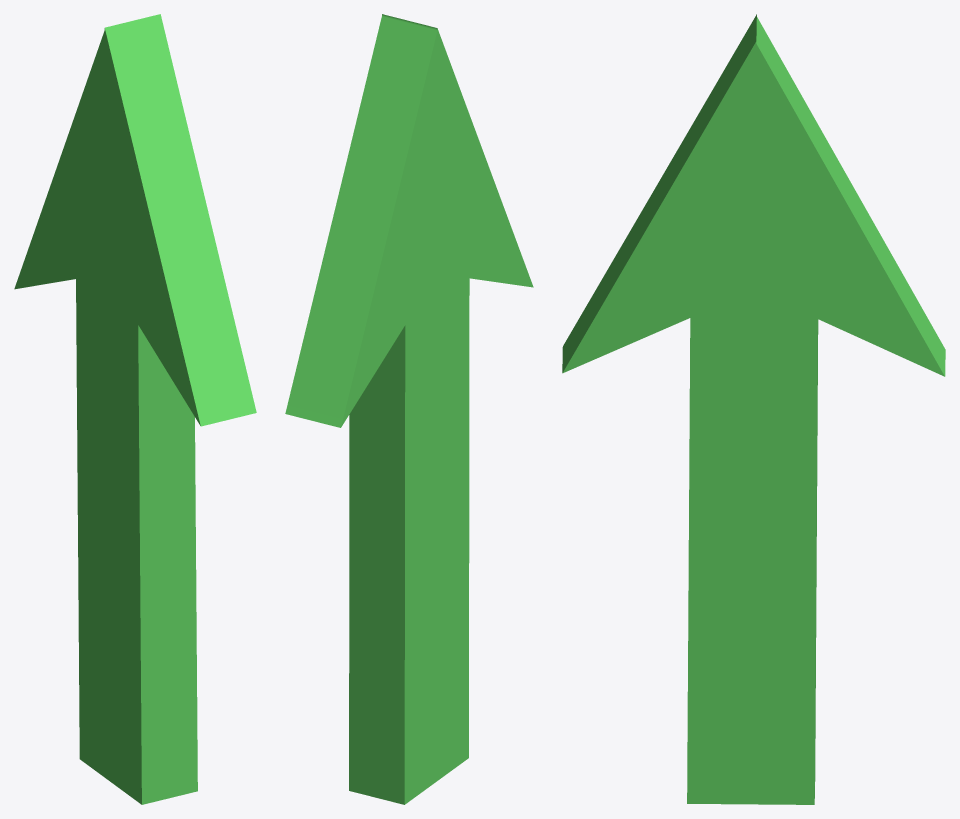
File: Y-Axis.fbx
The picture shows the model from 3 angles, left to right: view 1: azimuth 30°, elevation 25°; view 2: azimuth 150°, elevation 25°; view 3: azimuth 270°, elevation 25°; orthographic projection.
Visible parts, largest first — view 1: polySurface6; view 2: polySurface6; view 3: polySurface6.
Boxes of the visible parts, <box> form: polySurface6: <box>14,14,256,804</box>; polySurface6: <box>285,14,533,804</box>; polySurface6: <box>562,14,945,804</box>.
Size of the model in its own units: 0.3305 by 4 by 1.82.
